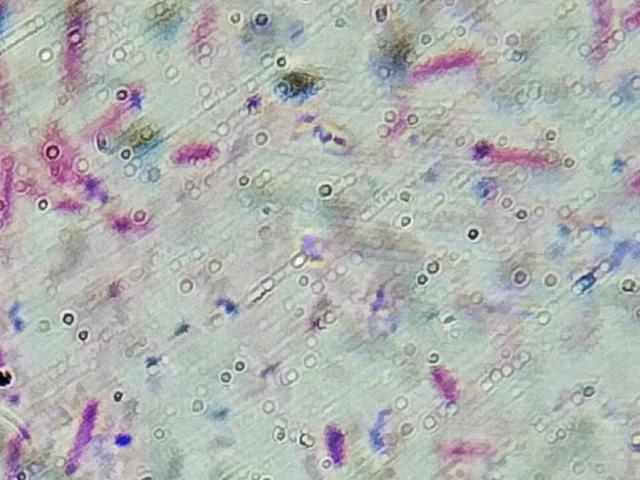E. coli: (479, 134, 574, 179), (55, 392, 101, 471), (89, 93, 150, 143), (411, 46, 479, 85), (53, 3, 88, 78), (164, 134, 221, 176), (422, 348, 460, 409), (311, 416, 349, 470), (0, 143, 26, 216), (185, 4, 219, 51), (586, 4, 611, 65), (0, 423, 26, 480), (43, 132, 74, 179), (77, 169, 111, 210), (439, 440, 498, 463), (104, 209, 154, 236), (39, 188, 85, 213), (619, 9, 640, 41), (226, 356, 228, 357)
